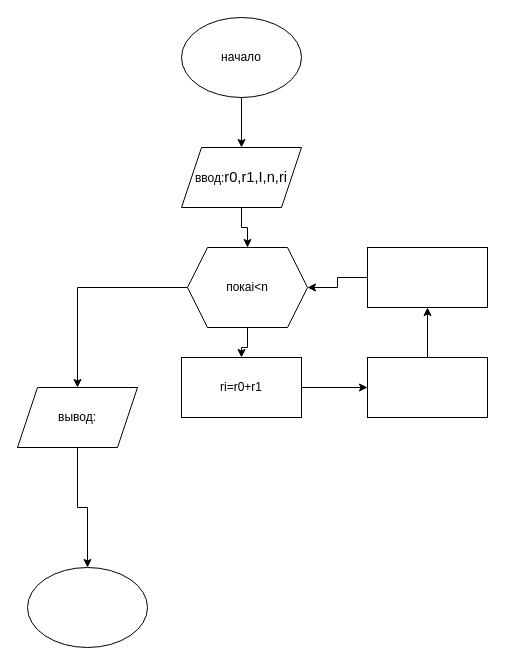
Some shapes in this 505 by 665 pixel diagram are drawn without their labels. Here are the shapes that lost their labels. From the top down, the centre of each, then its label:
the point at 427,277: i-1
the point at 427,387: r0=ri
the point at 87,607: конец
